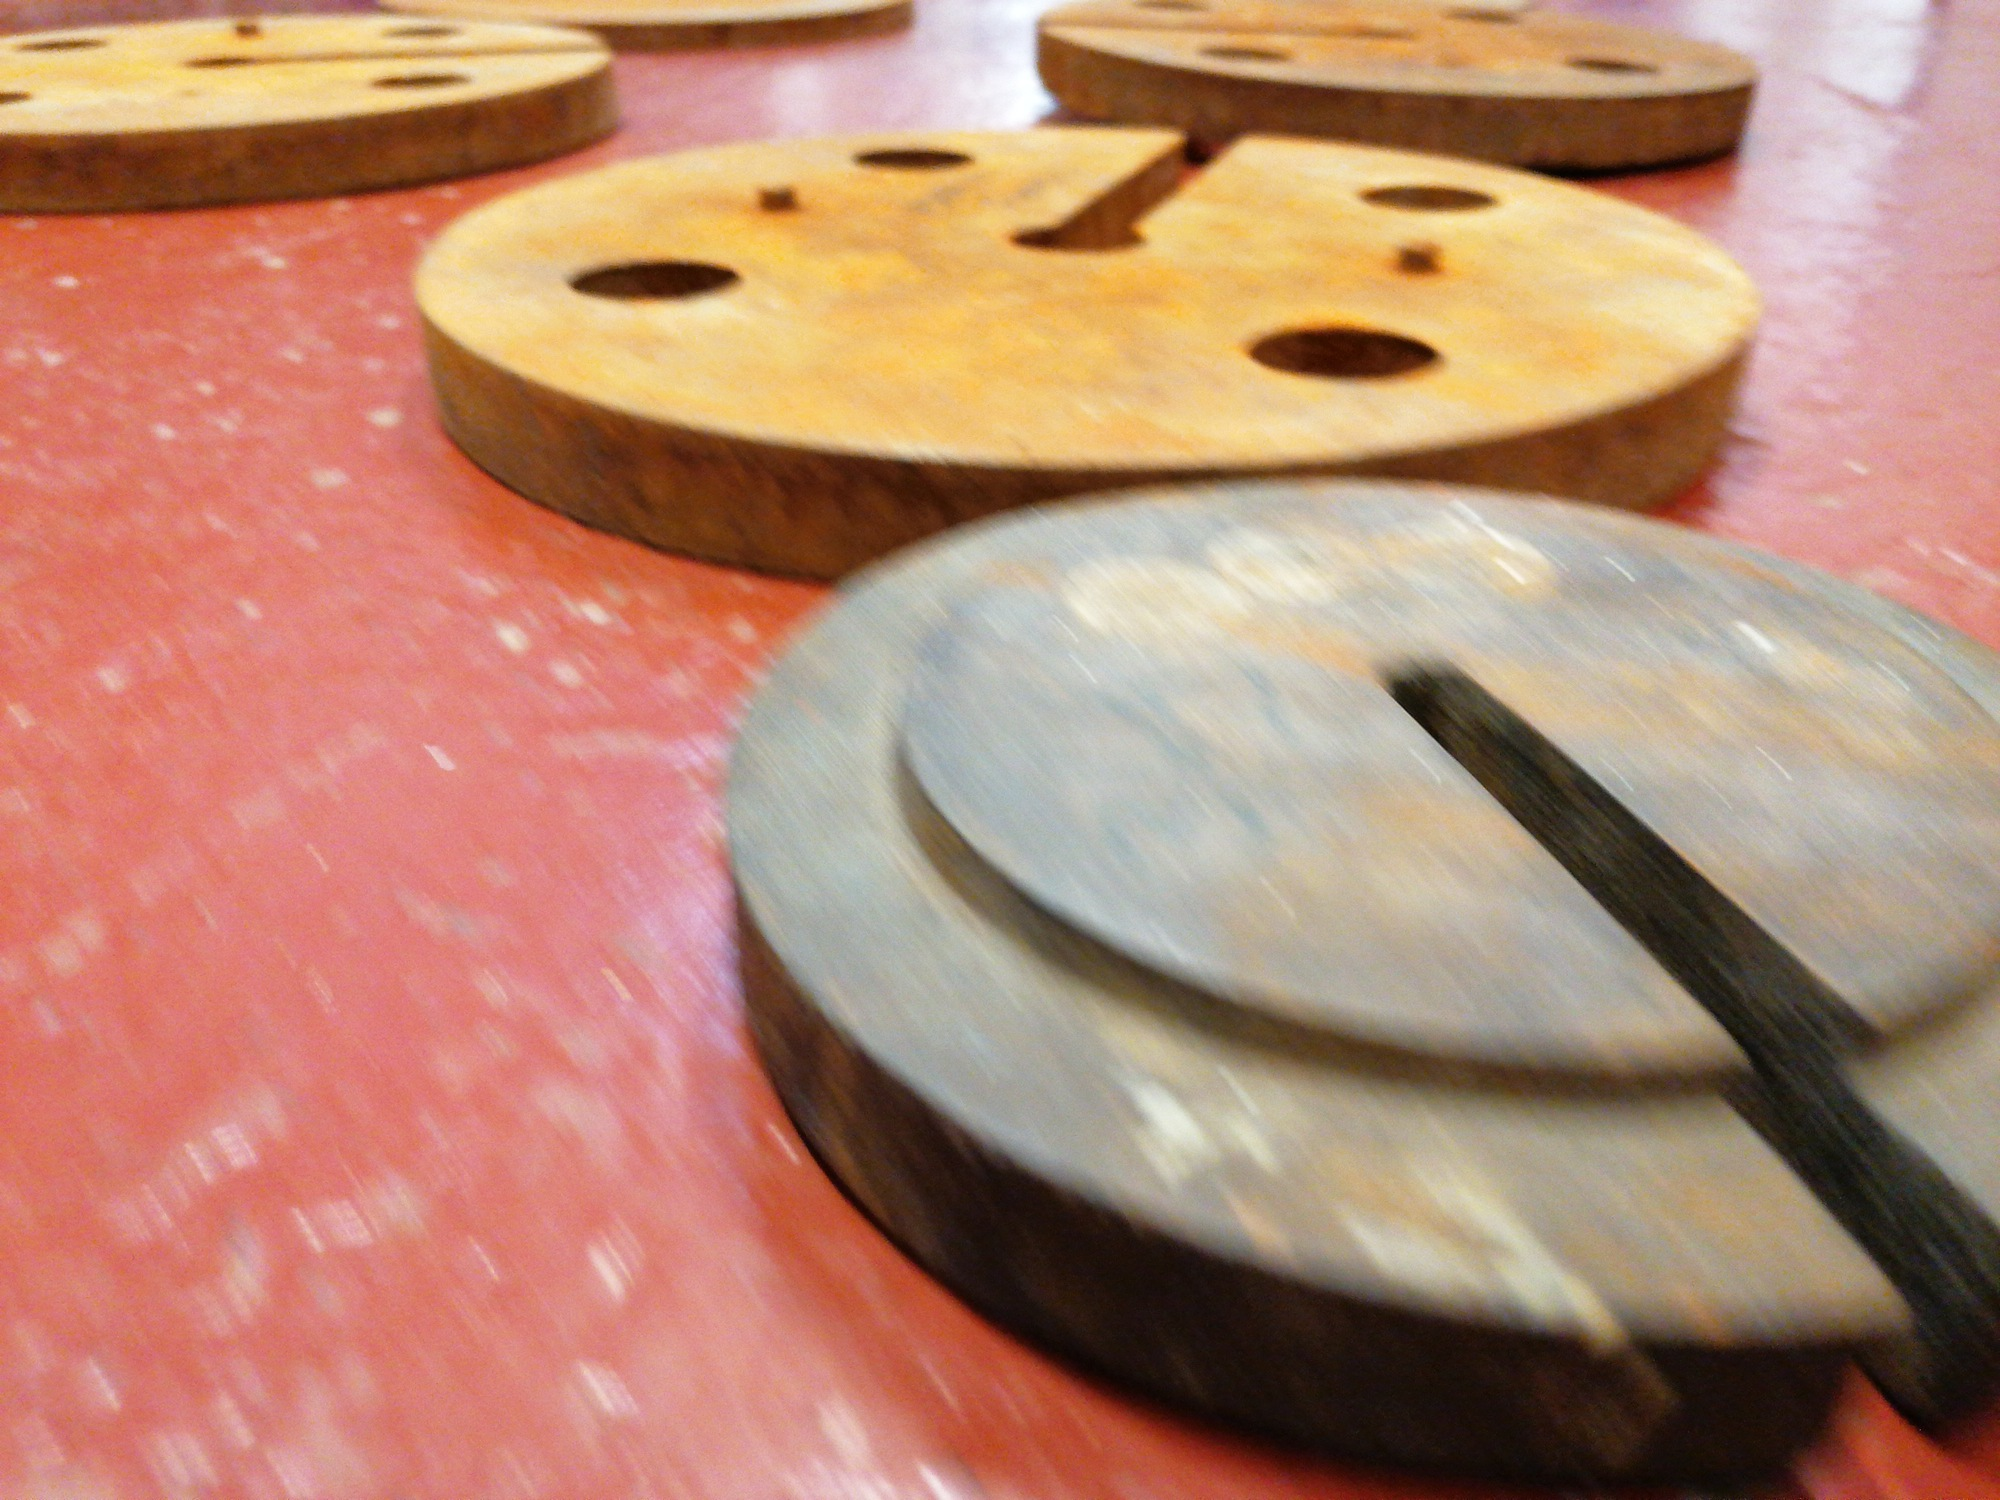flange: (718, 471, 1998, 1487), (414, 123, 1765, 599), (0, 11, 622, 214), (1033, 0, 1762, 173)
